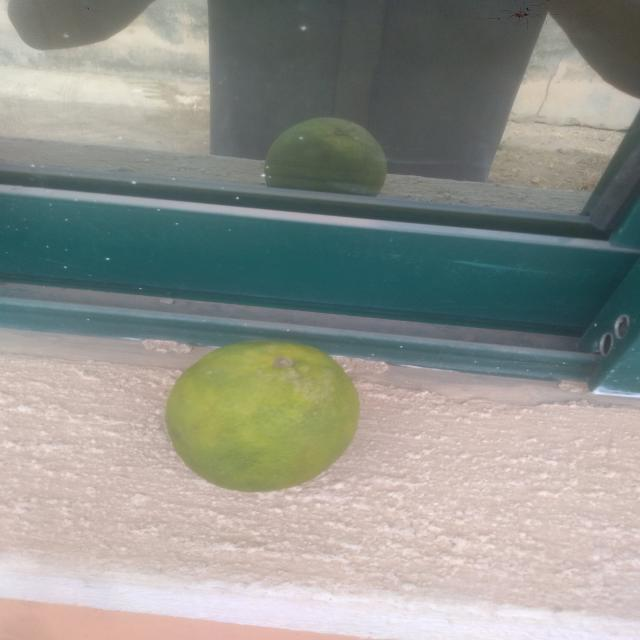Ripe orange: (129, 320, 386, 506)
